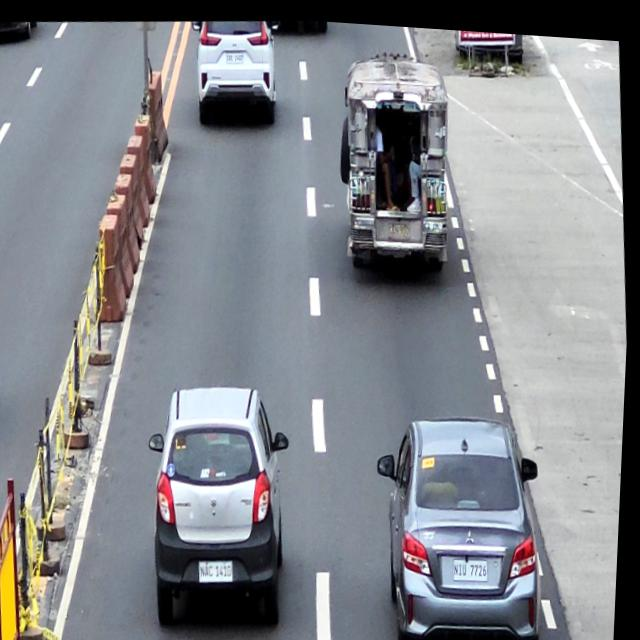Car: (371, 403, 555, 640), (143, 374, 307, 632), (186, 12, 285, 128)
Jeep: (329, 39, 463, 277)
License-Plate: (456, 550, 494, 577), (203, 556, 238, 579), (389, 216, 412, 233), (225, 47, 245, 61)
